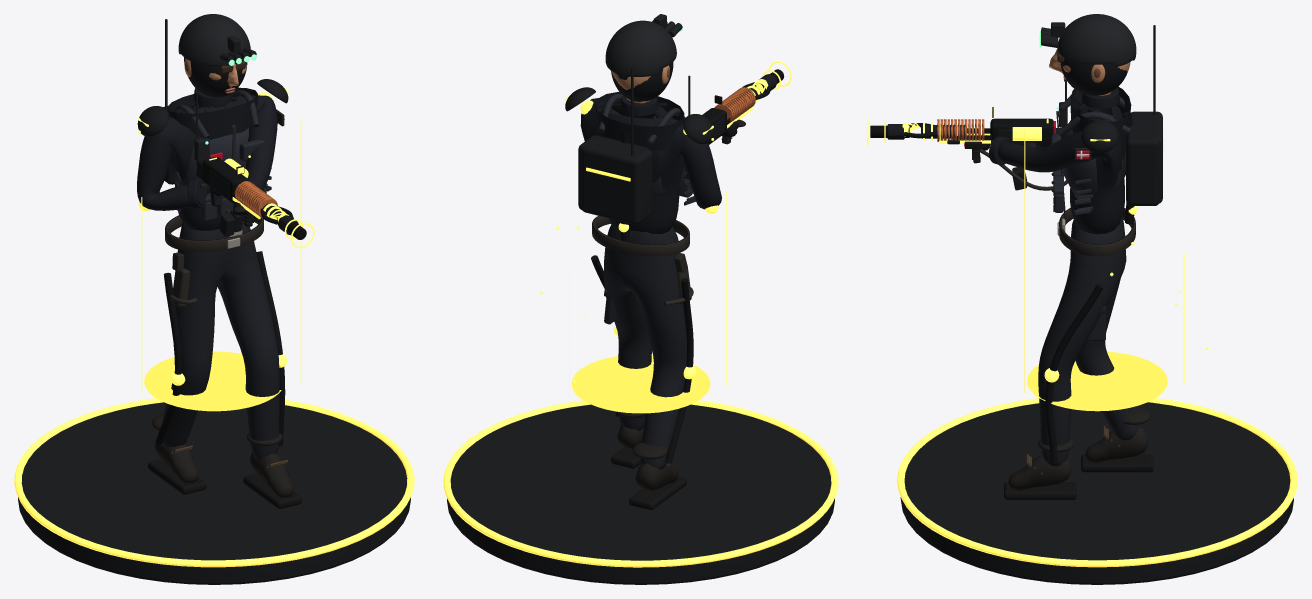
Rendered from lyn_nat.glb.
The picture shows the model from 3 angles, left to right: view 1: azimuth 30°, elevation 25°; view 2: azimuth 150°, elevation 25°; view 3: azimuth 270°, elevation 25°; orthographic projection.
Parts seen in each view (by area): view 1: fod_net, menneske_net, op1.001_net, op4.002_net, hoved_net, op4.001_net, vaaben_net, op3.001_net, op4_net, op3_net; view 2: fod_net, menneske_net, op4.001_net, op4.002_net, hoved_net, op1.001_net, op3.001_net, vaaben_net, ned4_net; view 3: fod_net, menneske_net, hoved_net, op4.002_net, op1.001_net, ned4_net, op4.001_net, vaaben_net, op3.001_net, op3_net, op2_net, op1_net.
Part boxes in pixels (x1,y1,x2,y2): fod_net: (14,398,414,584); menneske_net: (137,87,301,508); op1.001_net: (165,90,271,307); op4.002_net: (138,120,301,411); hoved_net: (178,14,256,97); op4.001_net: (138,92,287,446); vaaben_net: (202,157,293,224); op3.001_net: (137,19,288,212); op4_net: (219,197,314,247); op3_net: (209,157,298,234); fod_net: (443,400,838,584); menneske_net: (580,91,745,510); op4.001_net: (580,100,718,463); op4.002_net: (540,138,726,413); hoved_net: (605,14,682,101); op1.001_net: (592,75,693,305); op3.001_net: (565,67,713,205); vaaben_net: (692,79,771,144); ned4_net: (578,135,647,210); fod_net: (897,398,1297,584); menneske_net: (979,87,1153,499); hoved_net: (1039,14,1136,95); op4.002_net: (1024,130,1209,411); op1.001_net: (1051,82,1135,256); ned4_net: (1074,114,1160,213); op4.001_net: (1044,111,1163,462); vaaben_net: (902,118,1053,147); op3.001_net: (1075,25,1155,204); op3_net: (887,119,1048,144); op2_net: (870,107,993,163); op1_net: (953,128,1067,190).
Bounding box in the file's own units: 1.94 × 2.59 × 2.08.
